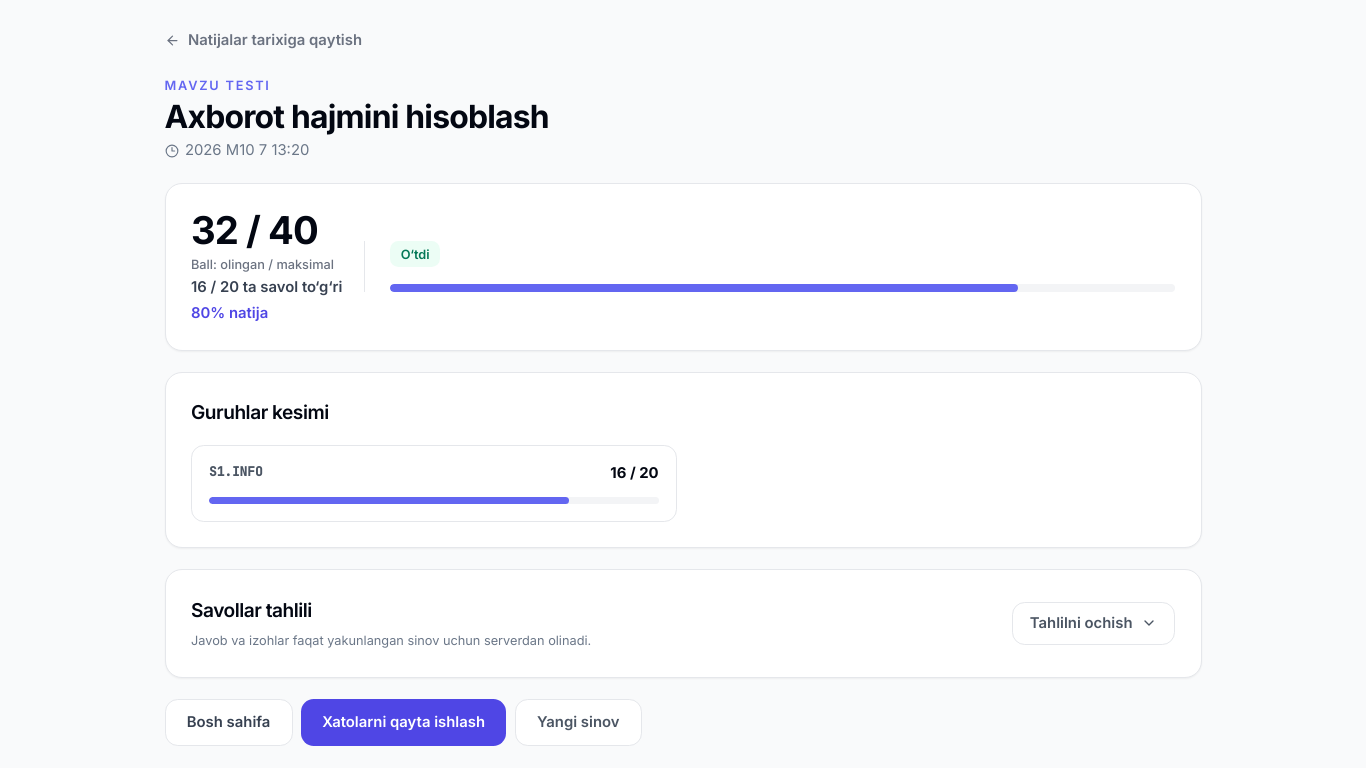
it: ExamResultPage › savollar tahlilini faqat foydalanuvchi ochganda serverdan oladi
The image size is (1366, 768).
Expected: the text "32 / 40" is shown, left=191, top=207, right=318, bottom=253
Click the button "Tahlilni ochish" at point(1093, 623), box left=1012, top=602, right=1175, bottom=645
(page scrolled)
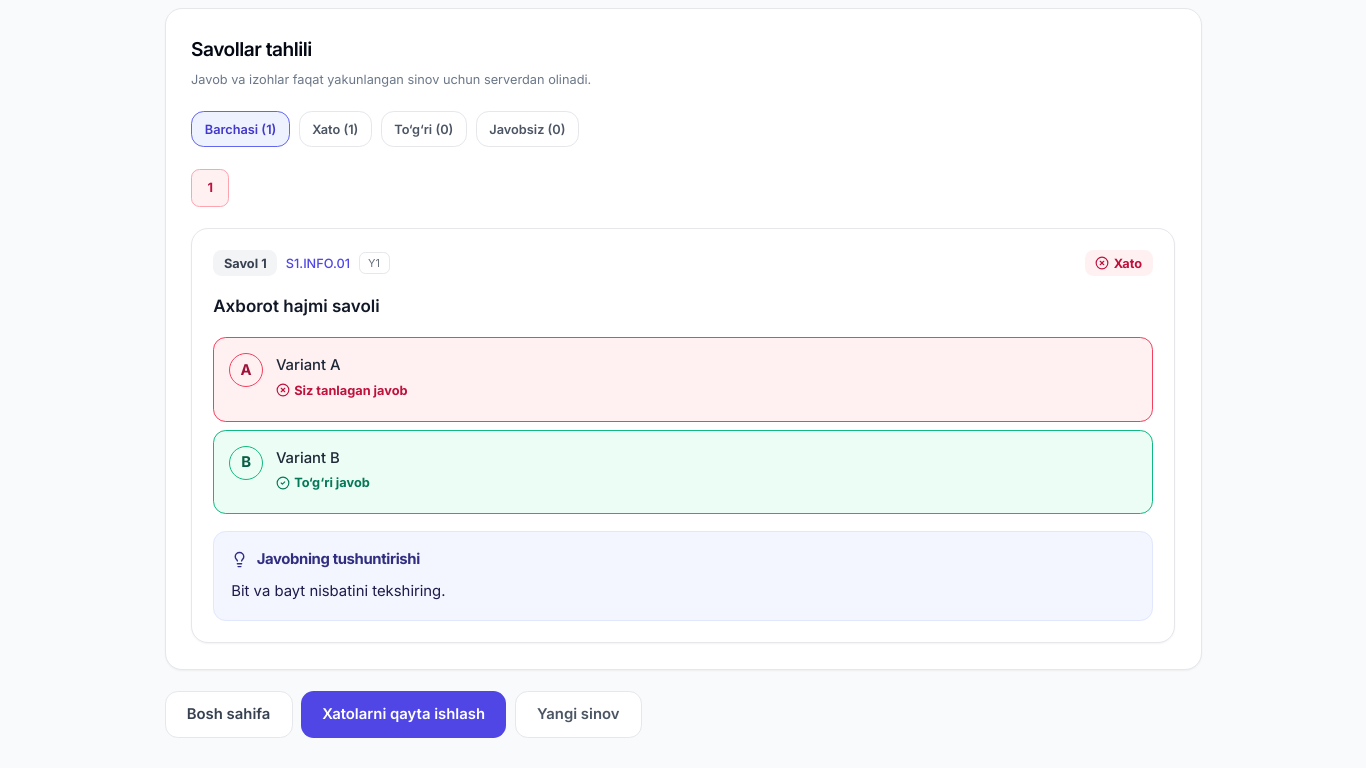
Expected: the text "S1.INFO.01" is shown, left=286, top=254, right=350, bottom=272
Expected: the text "Xato" is shown, left=1085, top=250, right=1153, bottom=276
Expected: the text "Bit va bayt nisbatini tekshiring." is shown, left=231, top=582, right=446, bottom=600
